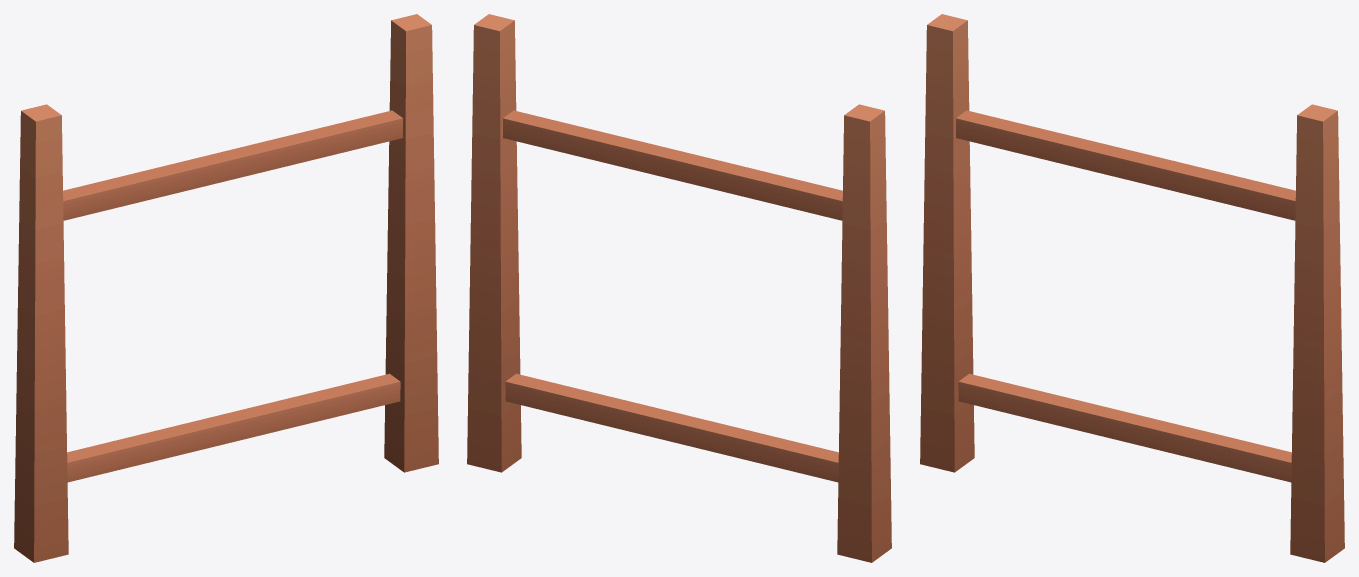
The model's file is kenney-wood-fence.glb.
3 renders of one model, left to right at view 1: azimuth 30°, elevation 25°; view 2: azimuth 150°, elevation 25°; view 3: azimuth 330°, elevation 25°, orthographic.
Visible parts, largest first — view 1: fence; view 2: fence; view 3: fence.
Part boxes in pixels (x1,y1,x2,y2): fence: (14,14,438,562); fence: (467,14,891,562); fence: (920,14,1344,562).
Size of the model in its own units: 0.5 by 0.5175 by 0.0428.
Materials: 1 (1 with a texture image).
